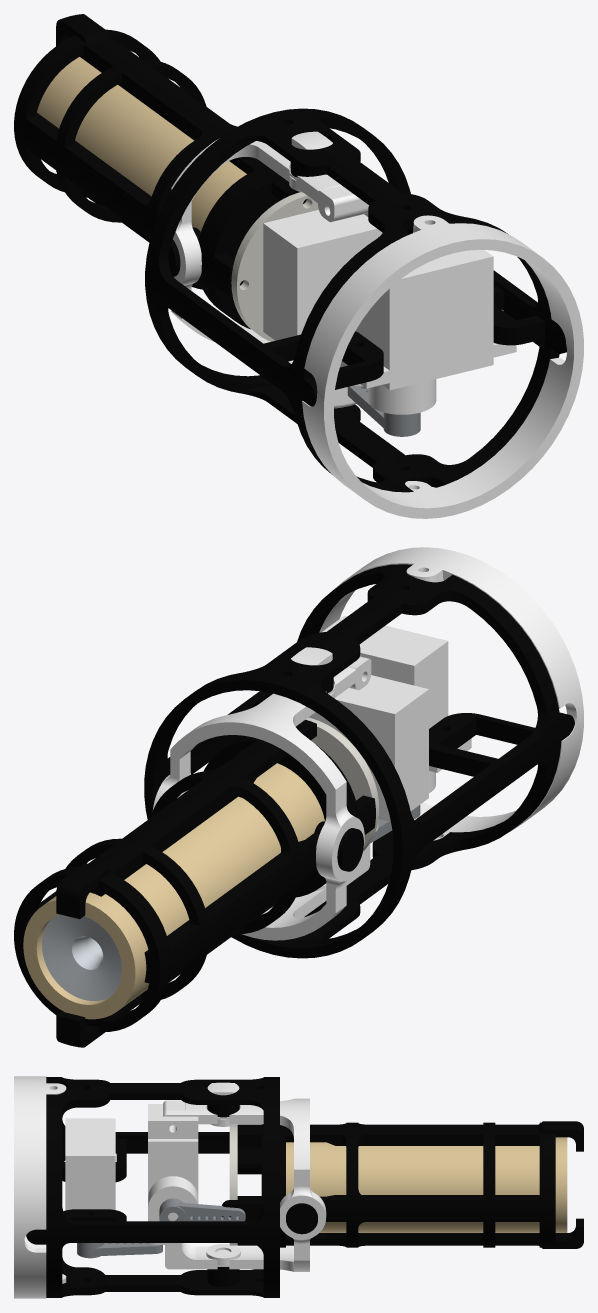
File: TVC (4).glb
3 views of the same model, one above another, from view 1: azimuth 30°, elevation 25°; view 2: azimuth 150°, elevation 25°; view 3: azimuth 270°, elevation 25° (orthographic). The views are drawn at different scales.
Parts seen in each view (by area): view 1: Part 1 (×7), Part 2, Servo Horn; view 2: Part 1 (×8), Part 2; view 3: Part 1 (×9), Servo Horn (×2), Part 2.
Boxes of the visible parts, <box> form: Part 1 (×7): <box>14,14,583,518</box>; Part 2: <box>231,192,318,341</box>; Servo Horn: <box>347,386,420,436</box>; Part 1 (×8): <box>14,547,583,1047</box>; Part 2: <box>306,717,378,851</box>; Part 1 (×9): <box>14,1076,583,1298</box>; Servo Horn (×2): <box>77,1198,245,1258</box>; Part 2: <box>229,1124,237,1245</box>.
Bounding box in the file's own units: 0.0552 × 0.0552 × 0.1415.
